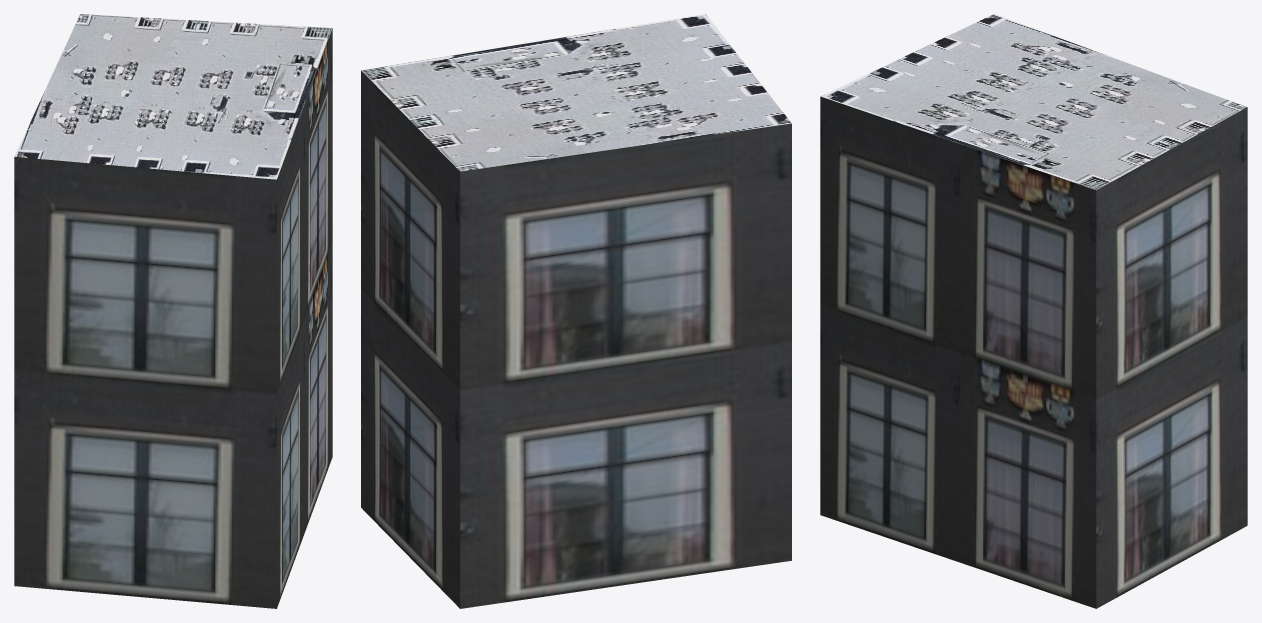
The model's file is ResTex__188.fbx.
3 renders of one model, left to right at view 1: azimuth 30°, elevation 25°; view 2: azimuth 150°, elevation 25°; view 3: azimuth 270°, elevation 25°, orthographic. The views are drawn at different scales.
Visible parts, largest first — view 1: CityEngineMaterial_22_m, CityEngineMaterial_4_m; view 2: CityEngineMaterial_22_m, CityEngineMaterial_4_m; view 3: CityEngineMaterial_22_m, CityEngineMaterial_4_m.
Part boxes in pixels (left/top/right/bottom): CityEngineMaterial_22_m: left=14, top=28, right=332, bottom=608; CityEngineMaterial_4_m: left=14, top=14, right=332, bottom=179; CityEngineMaterial_22_m: left=361, top=70, right=791, bottom=608; CityEngineMaterial_4_m: left=361, top=14, right=791, bottom=171; CityEngineMaterial_22_m: left=820, top=96, right=1247, bottom=608; CityEngineMaterial_4_m: left=821, top=14, right=1246, bottom=190.
Bounding box in the file's own units: 5.42 × 6 × 5.55.
2 materials, 2 textured.
